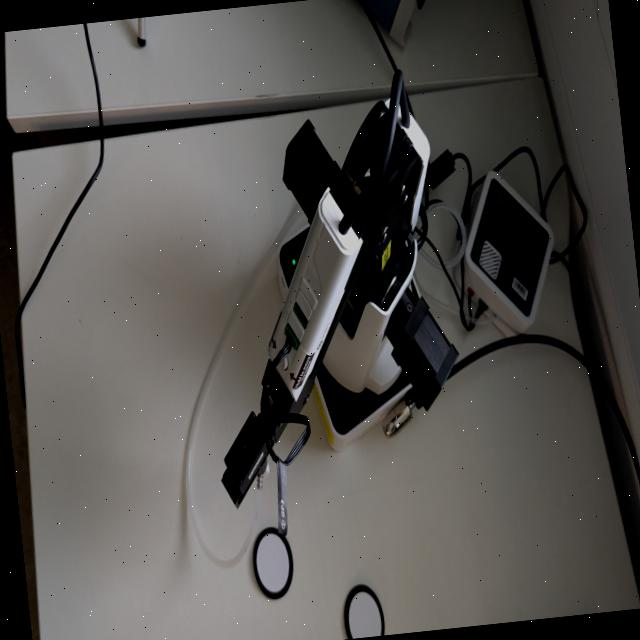Robot-end-effector-HF8z: (211, 403, 283, 526)
